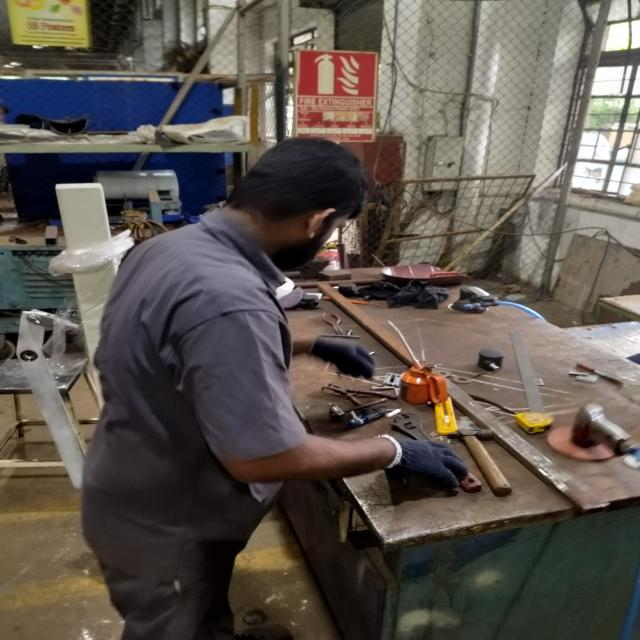Gloves-Detection: (372, 430, 468, 490), (309, 329, 383, 380)
